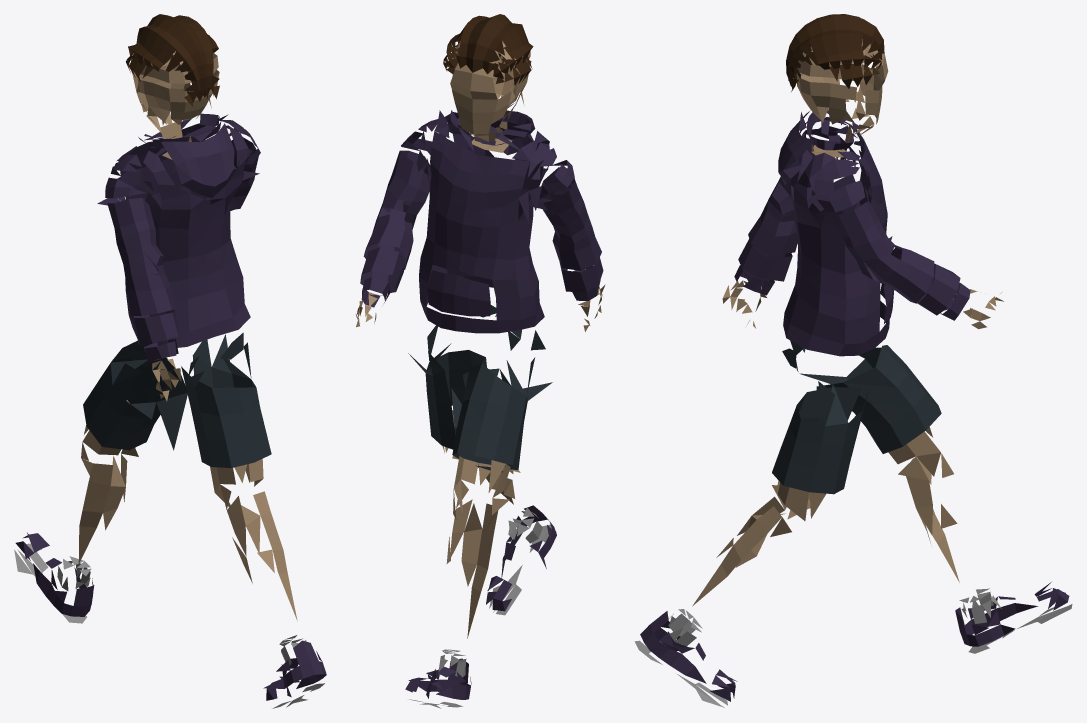
The model's file is person_11_w0.fbx.
3 views of the same model, side by side, from view 1: azimuth 30°, elevation 25°; view 2: azimuth 150°, elevation 25°; view 3: azimuth 270°, elevation 25° (orthographic). The views are drawn at different scales.
Visible parts, largest first — view 1: Casual_Feet; view 2: Casual_Feet; view 3: Casual_Feet.
Boxes of the visible parts, x1=… form: Casual_Feet: x1=14, y1=14, x2=326, y2=708; Casual_Feet: x1=355, y1=14, x2=605, y2=708; Casual_Feet: x1=634, y1=14, x2=1072, y2=707.
Bounding box in the file's own units: 0.2691 × 1 × 0.5966.
